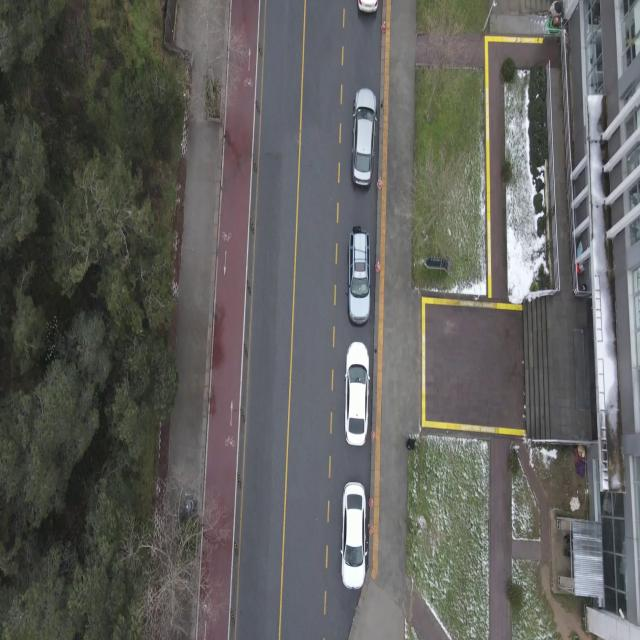p3rson: (405, 438, 416, 450), (563, 534, 570, 544)
